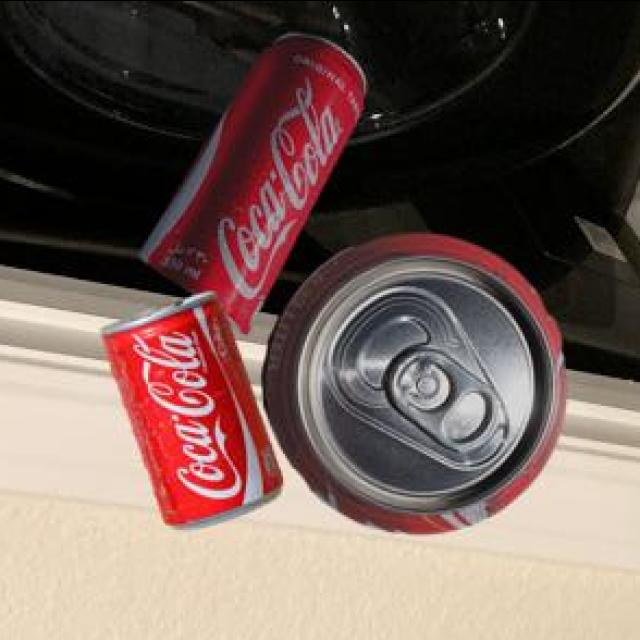logam: (258, 236, 565, 537), (136, 36, 362, 336), (97, 295, 280, 532)
